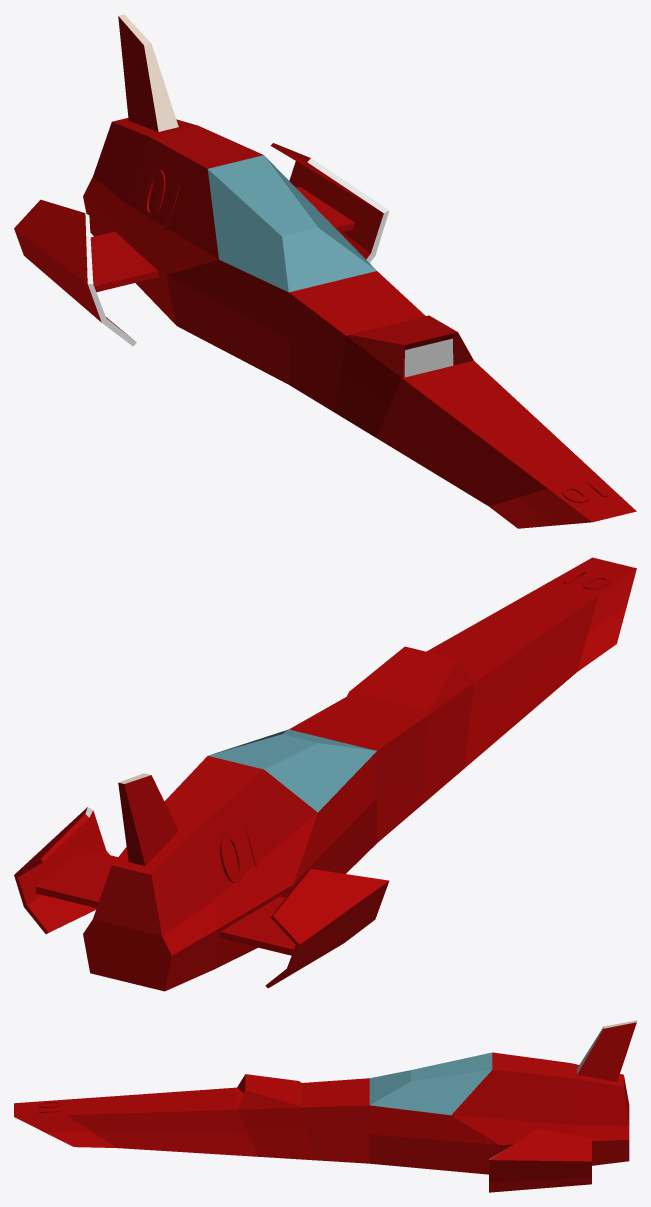
Rendered from fast-ship.dae.
3 renders of one model, top to bottom at view 1: azimuth 30°, elevation 25°; view 2: azimuth 150°, elevation 25°; view 3: azimuth 270°, elevation 25°, orthographic. The views are drawn at different scales.
Parts seen in each view (by area): view 1: Cube; view 2: Cube; view 3: Cube.
Boxes of the visible parts, box(x1,y1,x2,y2) form: Cube: box(14, 14, 636, 528); Cube: box(14, 557, 636, 991); Cube: box(14, 1020, 636, 1192).
Size of the model in its own units: 6.84 by 4.77 by 19.37.
